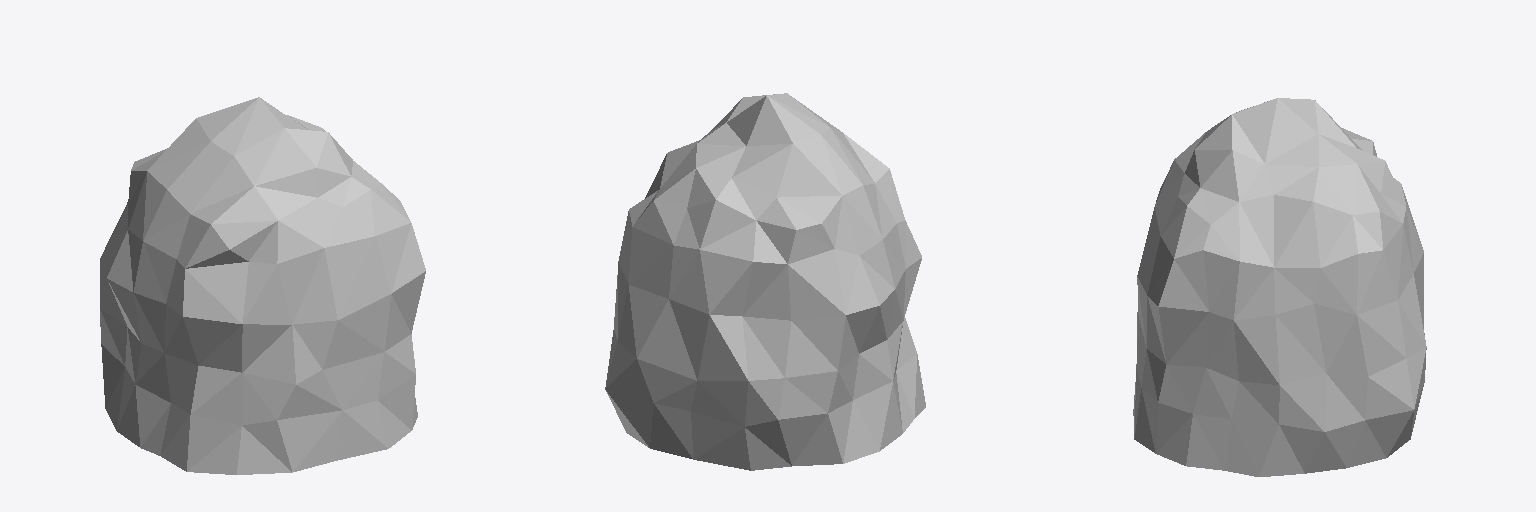
File: wall1.obj
3 views of the same model, side by side, from view 1: azimuth 30°, elevation 25°; view 2: azimuth 150°, elevation 25°; view 3: azimuth 270°, elevation 25° (orthographic).
Visible parts, largest first — view 1: Cube_Cube.001; view 2: Cube_Cube.001; view 3: Cube_Cube.001.
Part boxes in pixels (left/top/right/bottom): Cube_Cube.001: left=100, top=97, right=425, bottom=474; Cube_Cube.001: left=605, top=93, right=925, bottom=470; Cube_Cube.001: left=1133, top=98, right=1426, bottom=476.
Bounding box in the file's own units: 10.64 × 12.39 × 10.34.